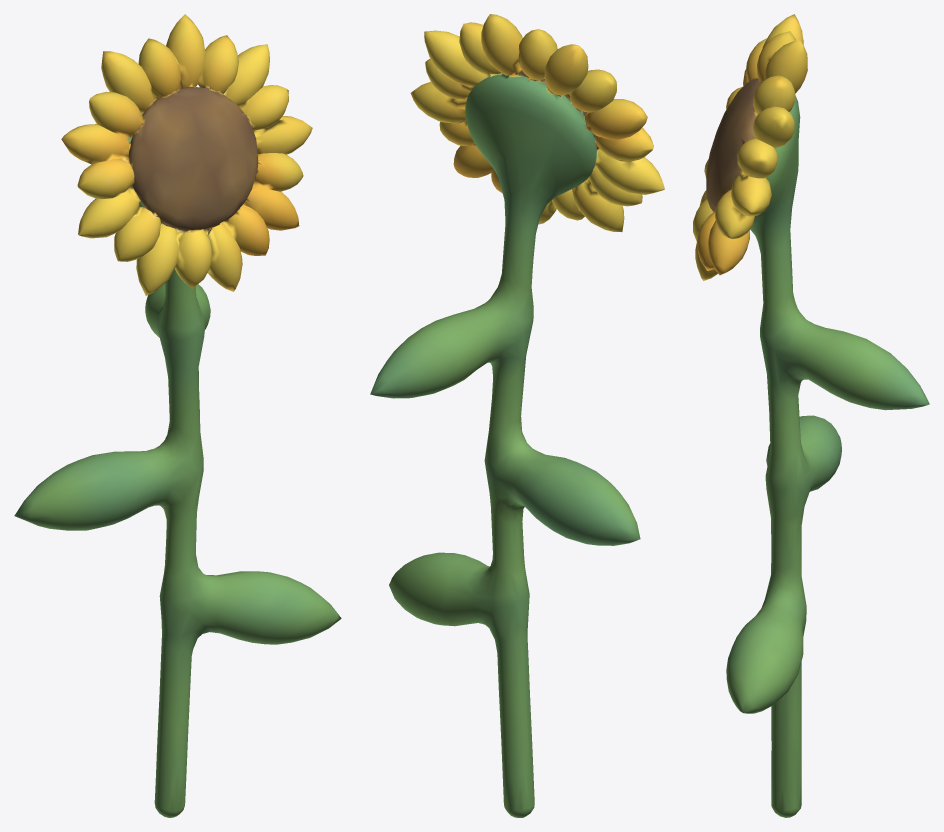
The model's file is flower2.glb.
3 views of the same model, side by side, from view 1: azimuth 30°, elevation 25°; view 2: azimuth 150°, elevation 25°; view 3: azimuth 270°, elevation 25° (orthographic). The views are drawn at different scales.
Visible parts, largest first — view 1: body; view 2: body; view 3: body.
Boxes of the visible parts, <box> form: body: <box>14,14,341,817</box>; body: <box>370,14,664,817</box>; body: <box>693,14,929,817</box>.
Bounding box in the file's own units: 0.4614 × 1.21 × 0.3312.
